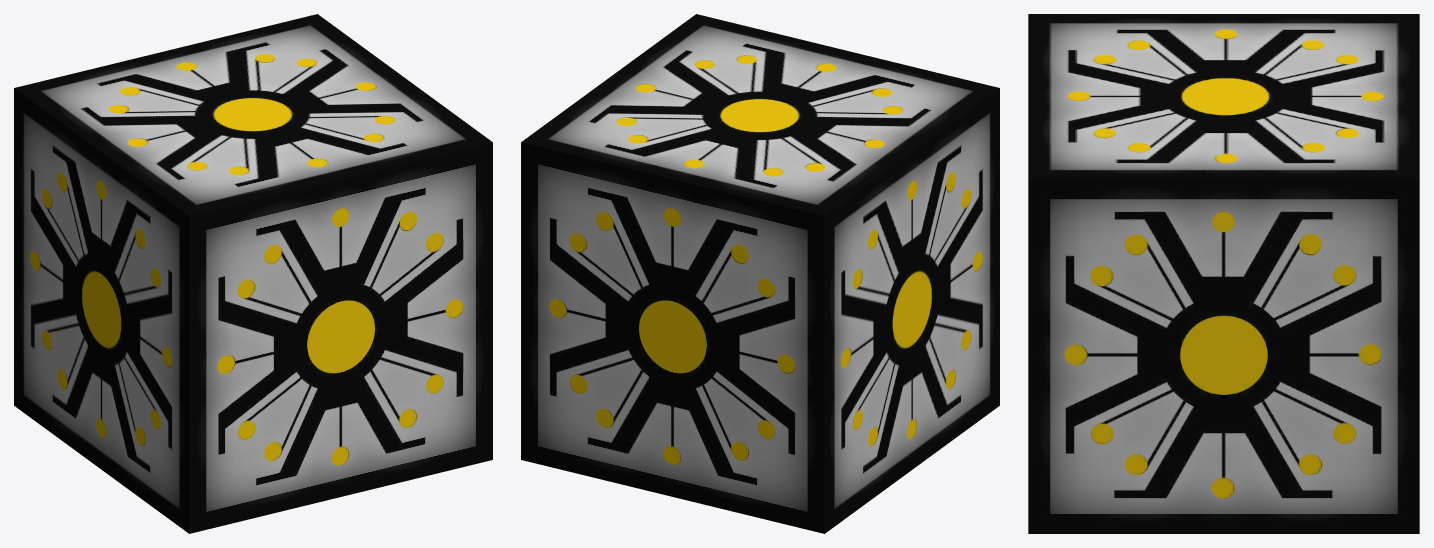
The model's file is atoncube.glb.
3 renders of one model, left to right at view 1: azimuth 30°, elevation 25°; view 2: azimuth 150°, elevation 25°; view 3: azimuth 270°, elevation 25°, orthographic. The views are drawn at different scales.
Parts seen in each view (by area): view 1: ATON-cube; view 2: ATON-cube; view 3: ATON-cube.
Boxes of the visible parts, x1=… form: ATON-cube: x1=14, y1=14, x2=492, y2=533; ATON-cube: x1=521, y1=14, x2=999, y2=533; ATON-cube: x1=1028, y1=14, x2=1419, y2=533.
Size of the model in its own units: 1 by 1 by 1.
Materials: 1 (1 with a texture image).
